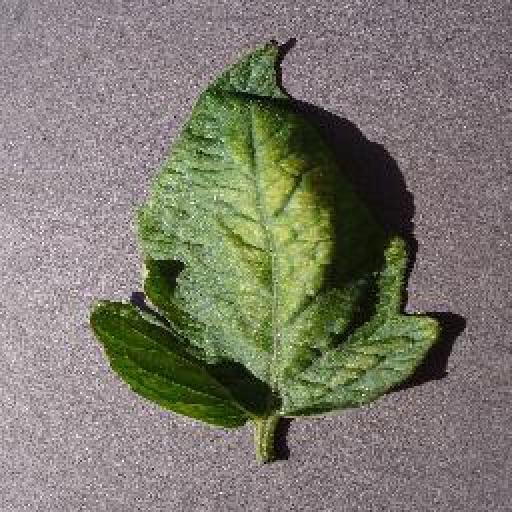disease_tomato: (92, 37, 437, 427)
